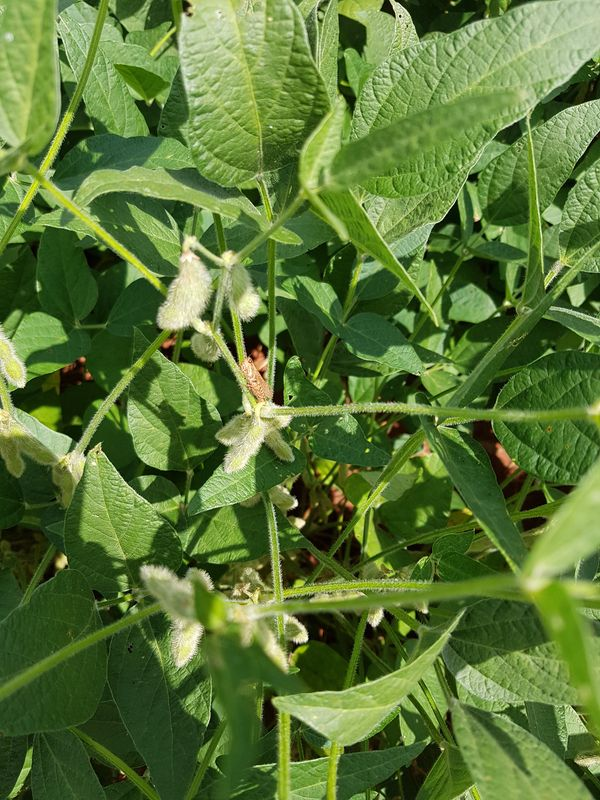Rhammatocerus_schistocercoides: (220, 353, 283, 413)
